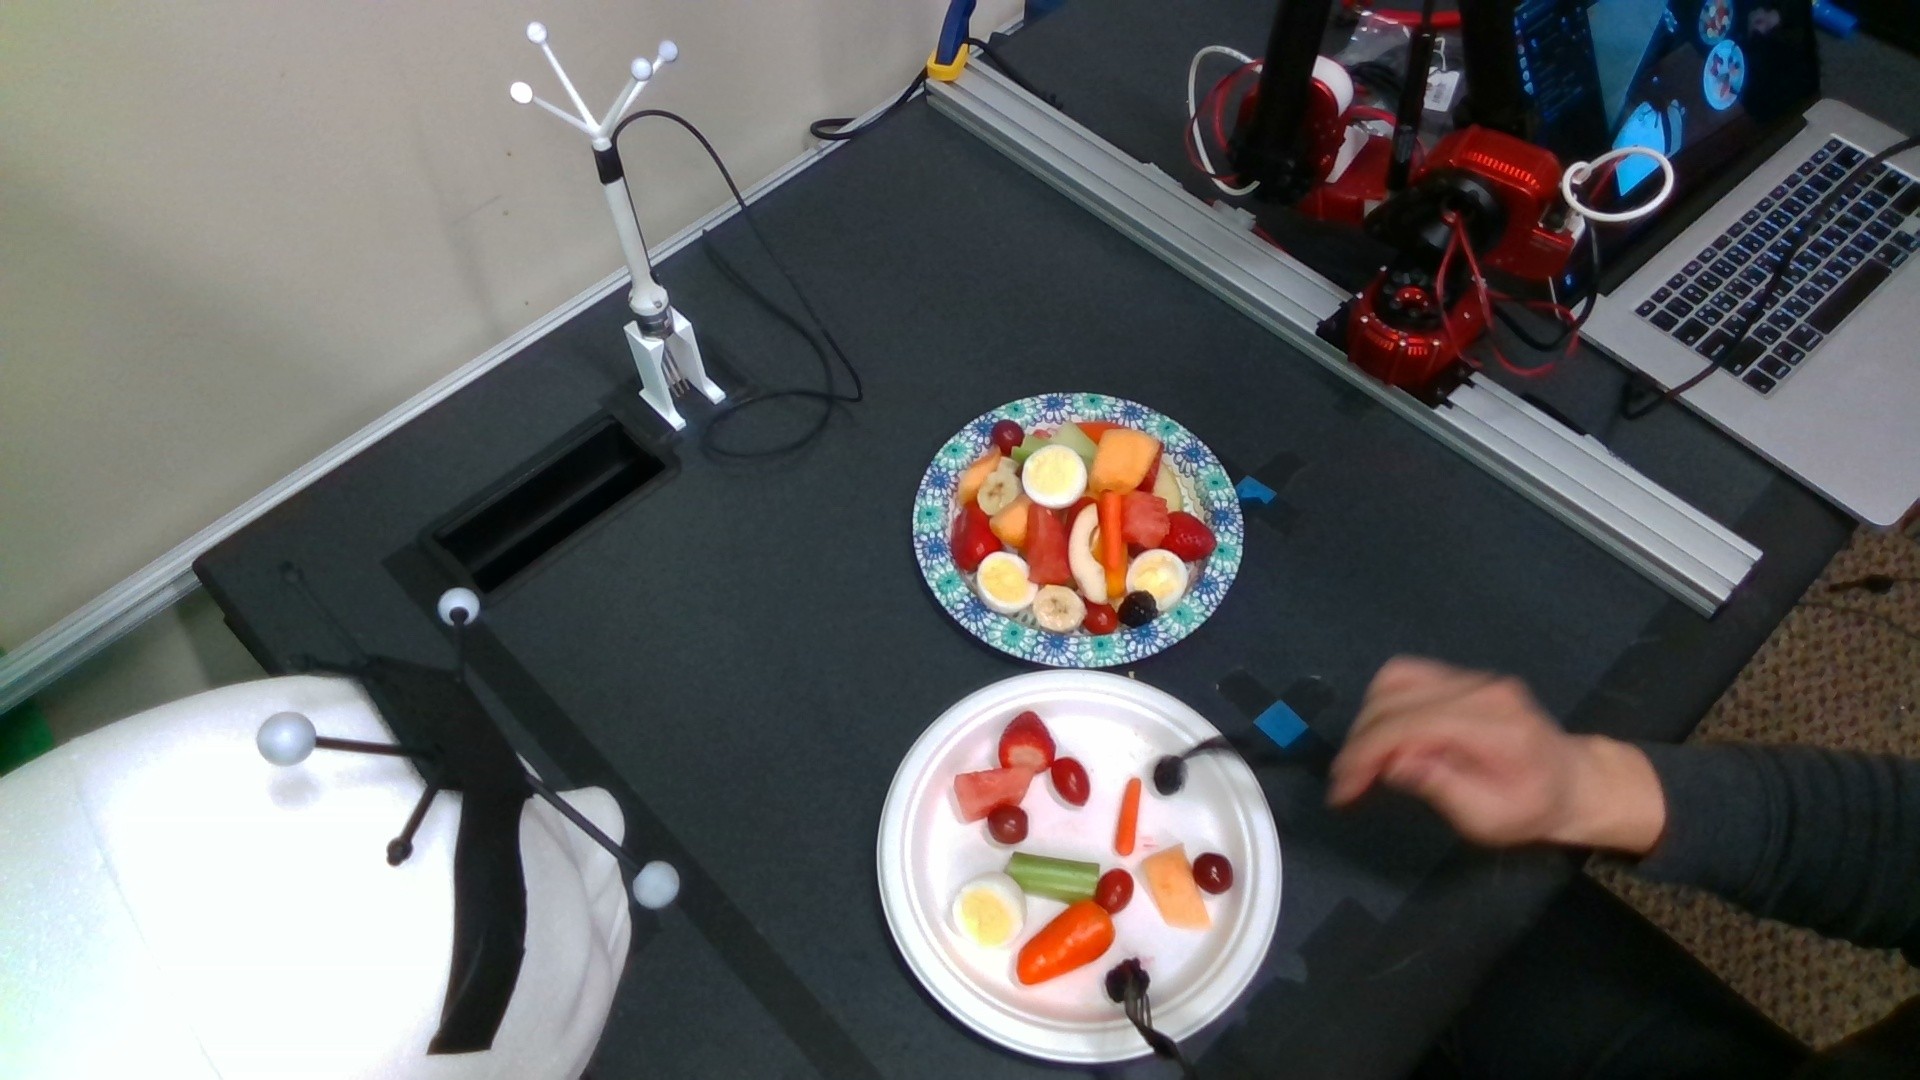apple: (1071, 501, 1110, 607)
banana: (1034, 583, 1087, 632), (978, 471, 1019, 518)
bell_pepper: (1011, 899, 1117, 984), (952, 500, 1004, 570)
blackberry: (1105, 959, 1150, 1001), (1118, 593, 1160, 626), (1153, 756, 1185, 793)
cantalope: (1142, 840, 1213, 932), (1087, 429, 1156, 495), (990, 496, 1031, 550)
carrot: (1098, 488, 1126, 600), (1116, 775, 1139, 855)
celery: (1004, 851, 1101, 906)
cherry_tomato: (1095, 866, 1134, 920), (1048, 758, 1089, 808), (1083, 596, 1116, 636)
egg: (953, 876, 1027, 949), (1022, 444, 1089, 506), (1126, 550, 1189, 611), (977, 550, 1035, 613)
grape_purple: (984, 804, 1031, 844), (1193, 856, 1234, 893), (992, 419, 1023, 455)
melon: (953, 764, 1039, 819), (1026, 502, 1072, 587), (1122, 492, 1168, 547)
strawberry: (1000, 707, 1058, 774), (1156, 512, 1218, 563)
